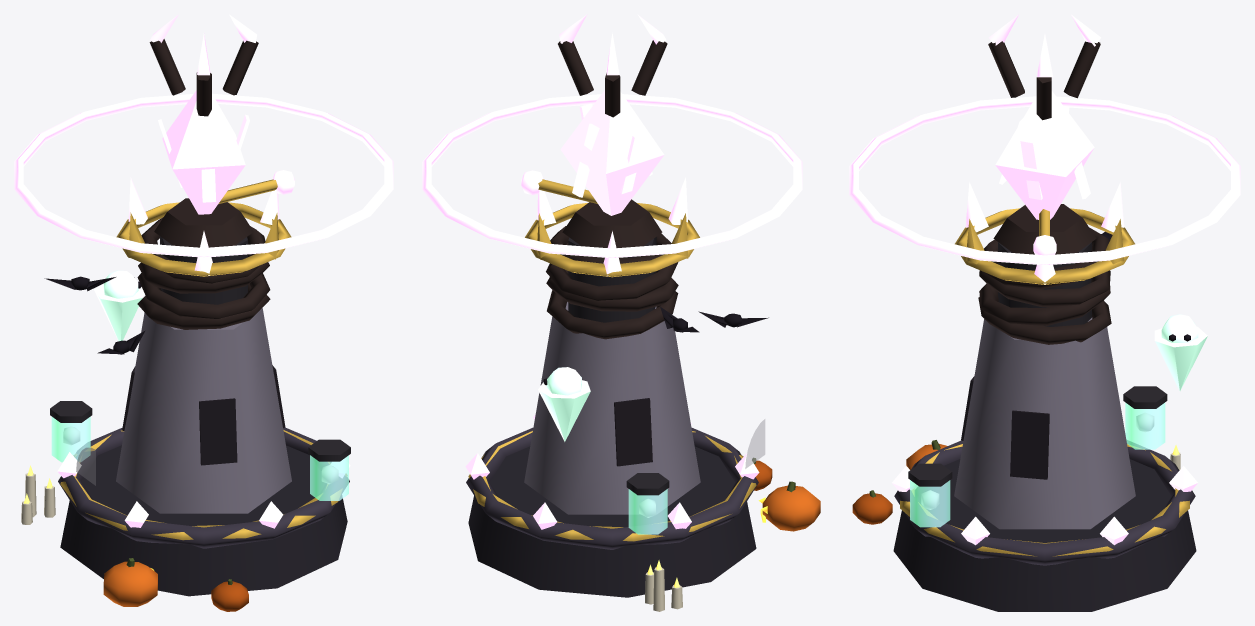
File: tower_chain_thunder_ultimate.glb
3 renders of one model, left to right at view 1: azimuth 30°, elevation 25°; view 2: azimuth 150°, elevation 25°; view 3: azimuth 270°, elevation 25°, orthographic. The views are drawn at different scales.
Visible parts, largest first — view 1: shaft, base, ult_halo, base_rim, crystal_core, cap, ult_crown_band, scorch_1, coil_1, deco_hw_jack_body, coil_0, coil_2 (+17 smaller); view 2: shaft, base, ult_halo, base_rim, crystal_core, cap, ult_crown_band, scorch_2, coil_0, coil_2, deco_hw_jack_body, coil_core (+15 smaller); view 3: shaft, base, ult_halo, base_rim, crystal_core, cap, ult_crown_band, scorch_0, coil_0, coil_1, coil_2, deco_hw_jar_0_glass (+16 smaller).
Boxes of the visible parts, <box> form: shaft: <box>116,308,291,513</box>; base: <box>60,445,347,596</box>; ult_halo: <box>14,93,393,257</box>; base_rim: <box>58,427,349,548</box>; crystal_core: <box>162,90,245,214</box>; cap: <box>154,198,253,247</box>; ult_crown_band: <box>116,202,291,276</box>; scorch_1: <box>199,398,237,465</box>; coil_1: <box>137,273,270,318</box>; deco_hw_jack_body: <box>103,561,157,606</box>; coil_0: <box>137,283,270,329</box>; coil_2: <box>138,244,269,293</box>; shaft: <box>524,302,700,514</box>; base: <box>468,446,756,597</box>; ult_halo: <box>422,94,802,258</box>; base_rim: <box>466,427,758,549</box>; crystal_core: <box>560,90,664,215</box>; cap: <box>562,199,662,247</box>; ult_crown_band: <box>525,202,699,277</box>; scorch_2: <box>614,398,652,466</box>; coil_0: <box>547,290,678,339</box>; coil_2: <box>546,243,678,300</box>; deco_hw_jack_body: <box>762,485,820,531</box>; coil_core: <box>568,237,656,322</box>; shaft: <box>954,317,1135,529</box>; base: <box>893,459,1196,611</box>; ult_halo: <box>849,96,1240,265</box>; base_rim: <box>894,440,1195,565</box>; crystal_core: <box>995,91,1094,219</box>; cap: <box>993,204,1096,254</box>; ult_crown_band: <box>955,208,1134,284</box>; scorch_0: <box>1010,410,1049,479</box>; coil_0: <box>978,297,1111,344</box>; coil_1: <box>979,283,1110,325</box>; coil_2: <box>979,263,1110,307</box>; deco_hw_jar_0_glass: <box>910,480,950,527</box>.
Size of the model in its own units: 0.434 by 0.64 by 0.4274.
